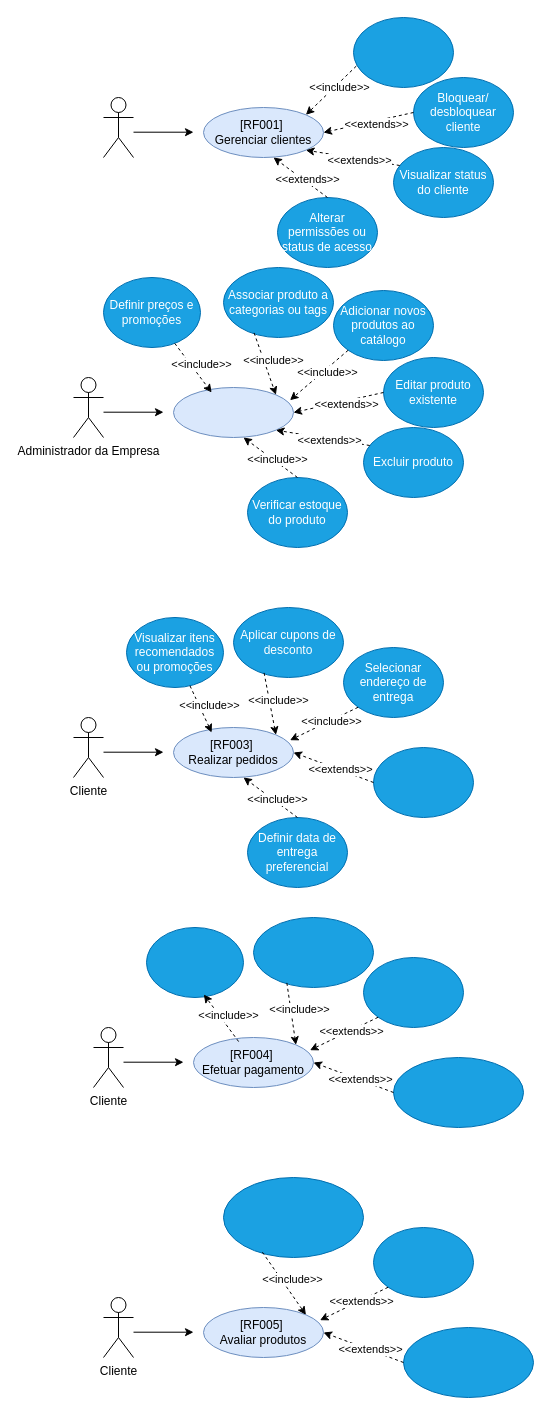
Image size: 551x1415. Some labels were removed from this diagram. Here are the shapes that lost their labels. From the top down, the centre of each, then its label:
point (403, 52): Atualizar informações pessoais do cliente
point (118, 127): Administrador do Sistema
point (233, 412): [RF002] Gerenciar produtos
point (423, 782): Salvar pedido para compras futuras
point (195, 962): Confirmar pagamento
point (313, 952): Emitir nota fiscal ou recibo de pagamento
point (413, 992): Realizar pagamento com parcelamento
point (458, 1092): Gerenciar métodos de pagamento salvos
point (293, 1217): Visualizar avaliações anteriores de outros clientes
point (423, 1262): Alterar avaliação do produto
point (468, 1362): Compartilhar avaliação nas redes sociais
